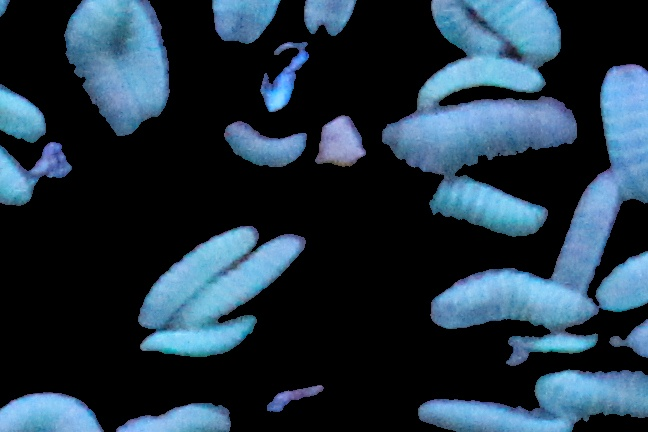larvae: (383, 98, 576, 176), (167, 235, 304, 334), (140, 228, 257, 326), (62, 1, 142, 138), (429, 268, 597, 329), (554, 166, 620, 284), (430, 173, 549, 236), (600, 64, 648, 199), (117, 1, 169, 119), (466, 1, 562, 64), (418, 61, 546, 108), (535, 369, 648, 421), (416, 397, 570, 432), (1, 385, 109, 432), (141, 314, 256, 358), (428, 1, 510, 56), (115, 398, 241, 432), (226, 120, 307, 169), (596, 250, 648, 313), (1, 83, 46, 143)
